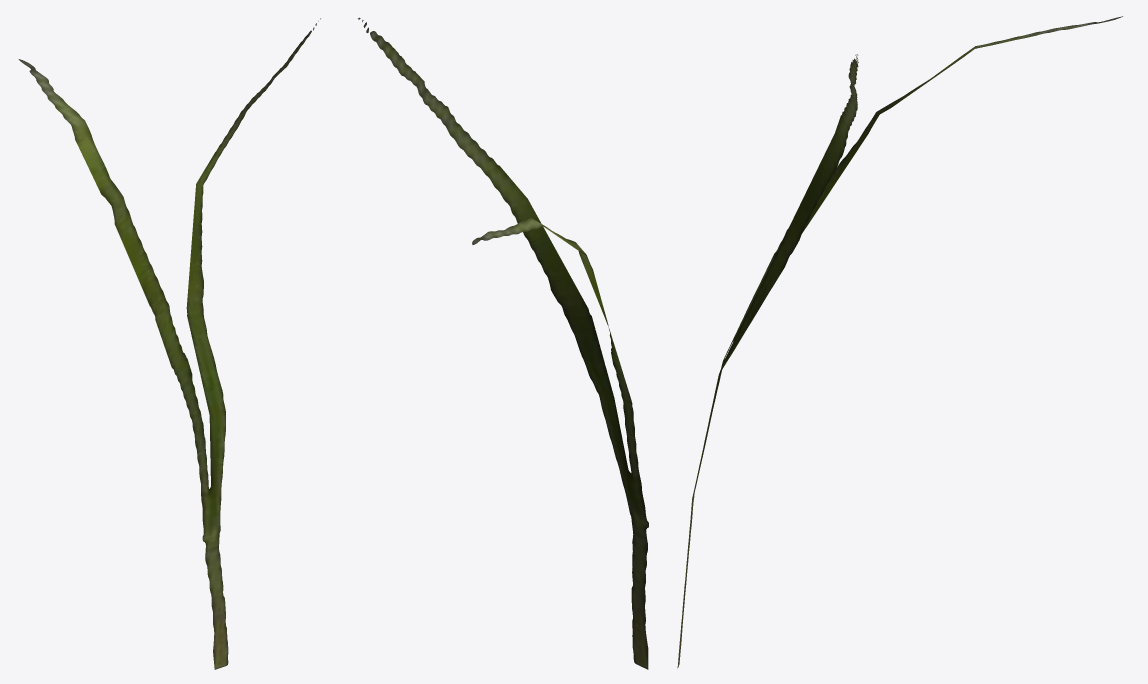
Rendered from grass-medium-01-tiny-b.glb.
3 renders of one model, left to right at view 1: azimuth 30°, elevation 25°; view 2: azimuth 150°, elevation 25°; view 3: azimuth 270°, elevation 25°, orthographic. The views are drawn at different scales.
Parts seen in each view (by area): view 1: grass_medium_01_tiny_b; view 2: grass_medium_01_tiny_b; view 3: grass_medium_01_tiny_b.
Boxes of the visible parts, x1,y1,x2,y2 form: grass_medium_01_tiny_b: (18,18,320,669); grass_medium_01_tiny_b: (358,17,648,669); grass_medium_01_tiny_b: (677,16,1122,668).
Bounding box in the file's own units: 0.0236 × 0.0602 × 0.0344.
Materials: 1 (1 with a texture image).
